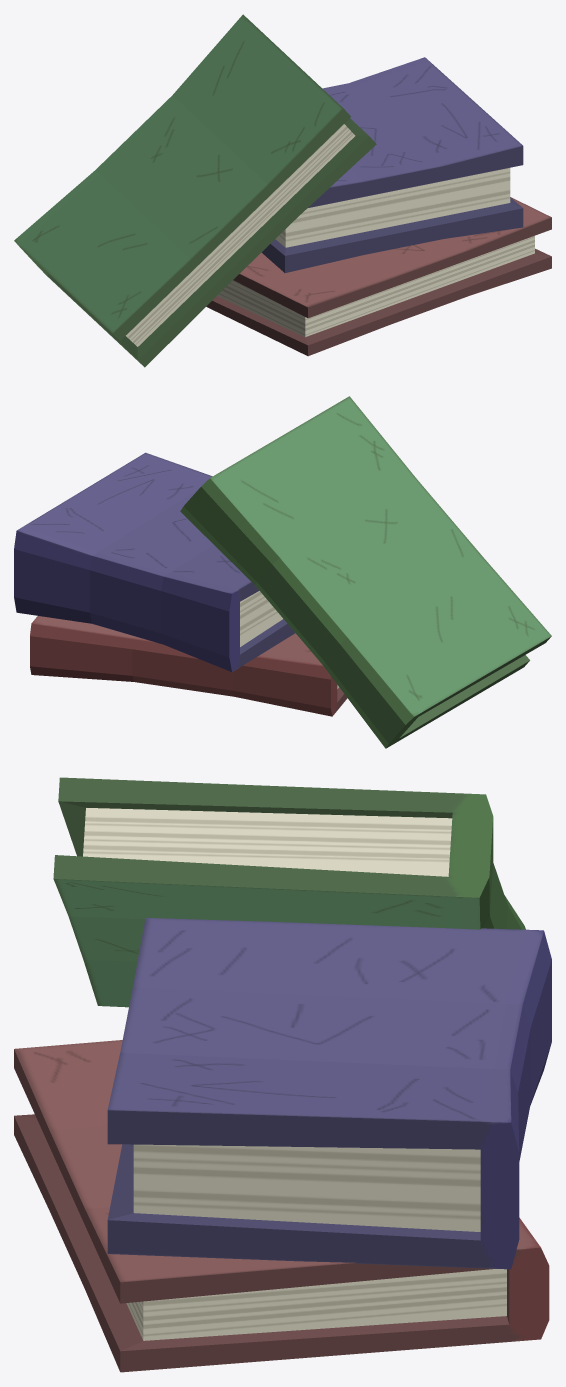
The model's file is books1.fbx.
The picture shows the model from 3 angles, top to bottom: view 1: azimuth 30°, elevation 25°; view 2: azimuth 150°, elevation 25°; view 3: azimuth 270°, elevation 25°; orthographic projection. The views are drawn at different scales.
Parts seen in each view (by area): view 1: Cube.002, Cube.001, Cube; view 2: Cube.002, Cube.001, Cube; view 3: Cube.001, Cube.002, Cube.
Boxes of the visible parts, x1=… form: Cube.002: x1=14, y1=14, x2=376, y2=367; Cube.001: x1=262, y1=57, x2=523, y2=272; Cube: x1=206, y1=197, x2=551, y2=356; Cube.002: x1=180, y1=396, x2=551, y2=748; Cube.001: x1=14, y1=452, x2=295, y2=671; Cube: x1=30, y1=616, x2=347, y2=716; Cube.001: x1=107, y1=918, x2=551, y2=1269; Cube.002: x1=53, y1=777, x2=525, y2=1007; Cube: x1=14, y1=1040, x2=549, y2=1372.
Bounding box in the file's own units: 439 × 216 × 262.
